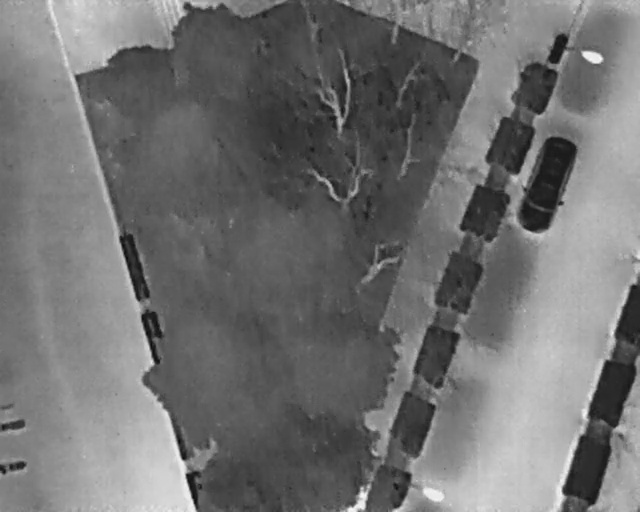Bicycle: (0, 458, 27, 476), (0, 416, 27, 433)
Car: (509, 127, 584, 240)
